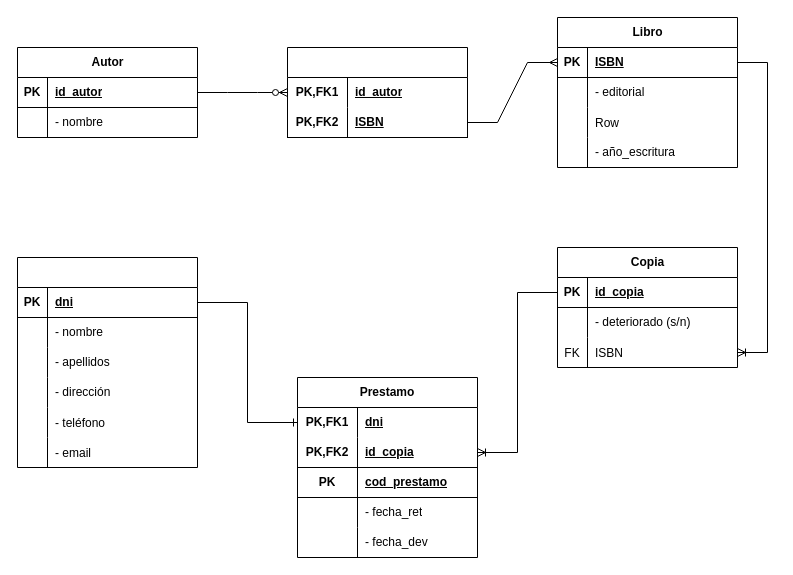
Some shapes in this 793 by 575 pixel diagram are drawn without their labels. Here are the shapes that lost their labels. From the top down, the box of each, then its label:
(286, 46, 468, 138): Escribe
(16, 256, 198, 468): Persona
